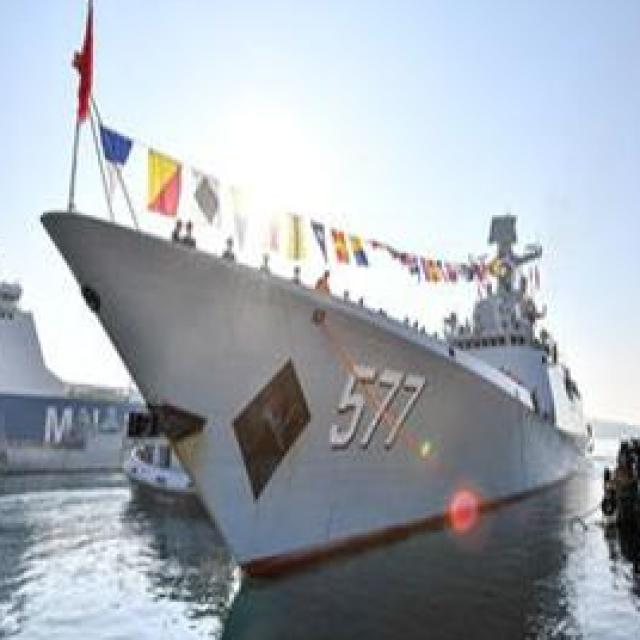navalvessels: (25, 114, 624, 560)
